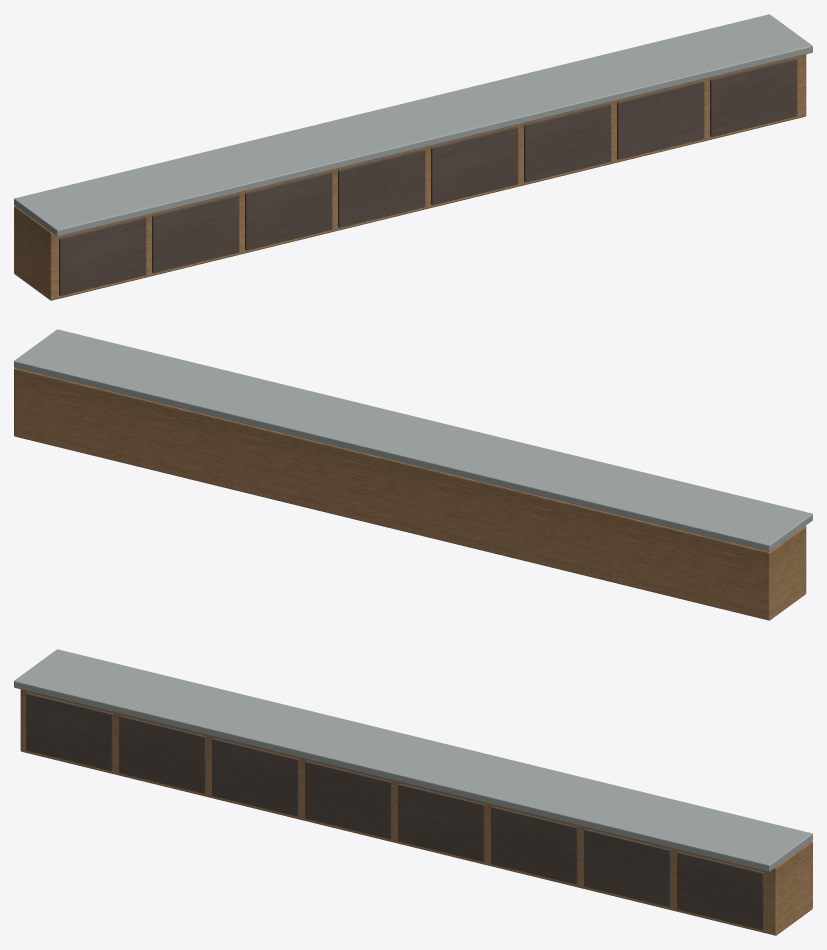
Rendered from hiperreal-hd.glb.
The picture shows the model from 3 angles, top to bottom: view 1: azimuth 30°, elevation 25°; view 2: azimuth 150°, elevation 25°; view 3: azimuth 330°, elevation 25°; orthographic projection.
Parts seen in each view (by area): view 1: starbucksBackbar_1, starbucksBackbar_0, starbucksBackbar_2, starbucksBackbar_5, starbucksBackbar_4, starbucksBackbar_7, starbucksBackbar_8, starbucksBackbar_6, starbucksBackbar_9, starbucksBackbar_3; view 2: starbucksBackbar_0, starbucksBackbar_1; view 3: starbucksBackbar_1, starbucksBackbar_0, starbucksBackbar_3, starbucksBackbar_4, starbucksBackbar_7, starbucksBackbar_2, starbucksBackbar_6, starbucksBackbar_9, starbucksBackbar_8, starbucksBackbar_5.
Part boxes in pixels (<box>): starbucksBackbar_1: <box>14,14,812,236</box>; starbucksBackbar_0: <box>14,54,806,300</box>; starbucksBackbar_2: <box>59,217,146,295</box>; starbucksBackbar_5: <box>338,149,425,227</box>; starbucksBackbar_4: <box>245,172,332,250</box>; starbucksBackbar_7: <box>524,104,611,182</box>; starbucksBackbar_8: <box>617,81,704,159</box>; starbucksBackbar_6: <box>431,126,518,205</box>; starbucksBackbar_9: <box>710,58,797,136</box>; starbucksBackbar_3: <box>152,194,239,273</box>; starbucksBackbar_0: <box>14,368,806,620</box>; starbucksBackbar_1: <box>14,329,812,551</box>; starbucksBackbar_1: <box>14,649,812,871</box>; starbucksBackbar_0: <box>20,689,812,935</box>; starbucksBackbar_3: <box>119,715,206,793</box>; starbucksBackbar_4: <box>212,738,299,816</box>; starbucksBackbar_7: <box>491,806,578,884</box>; starbucksBackbar_2: <box>26,692,113,771</box>; starbucksBackbar_6: <box>398,783,485,861</box>; starbucksBackbar_9: <box>677,851,764,929</box>; starbucksBackbar_8: <box>584,828,671,907</box>; starbucksBackbar_5: <box>305,760,392,839</box>.
Bounding box in the file's own units: 10 × 0.96 × 1.
Materials: 3 (2 with a texture image).
